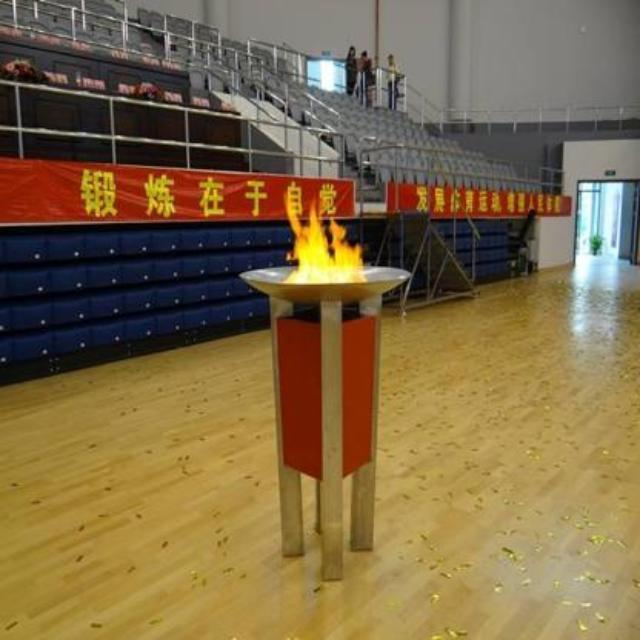Fire: (289, 208, 369, 288)
